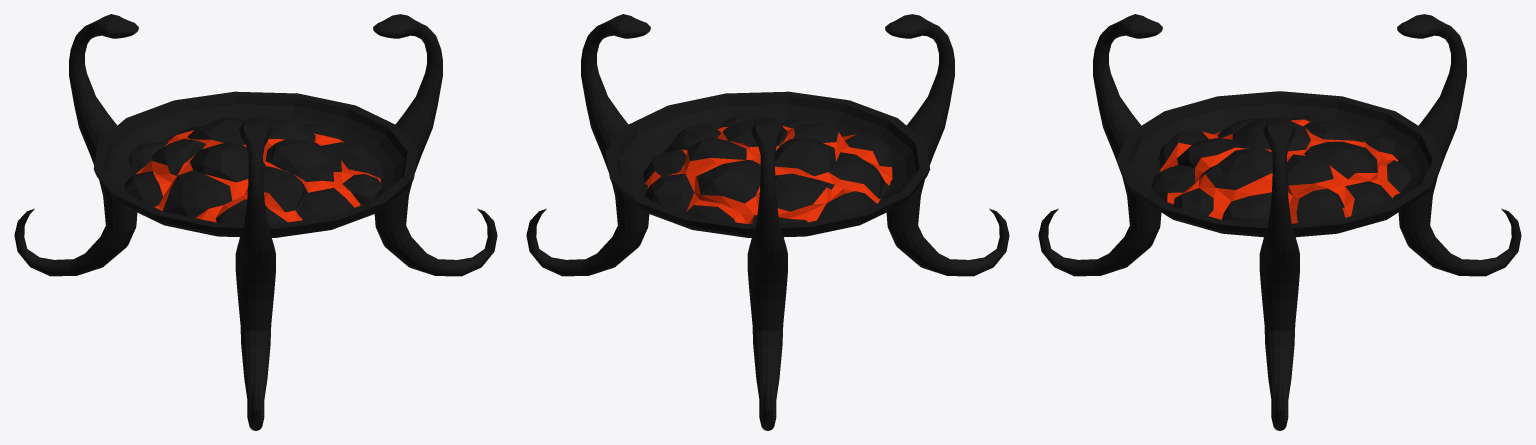
The model's file is snake-brazier-01.fbx.
The picture shows the model from 3 angles, left to right: view 1: azimuth 30°, elevation 25°; view 2: azimuth 150°, elevation 25°; view 3: azimuth 270°, elevation 25°; orthographic projection.
Parts seen in each view (by area): view 1: Coals, Brazier, Snake.002, Snake, Snake.001; view 2: Coals, Brazier, Snake.001, Snake.002, Snake; view 3: Coals, Brazier, Snake, Snake.001, Snake.002.
Boxes of the visible parts, <box> form: Coals: <box>124,115,383,224</box>; Brazier: <box>93,91,418,237</box>; Snake.002: <box>235,116,275,430</box>; Snake: <box>373,14,497,276</box>; Snake.001: <box>14,14,138,276</box>; Coals: <box>643,115,893,224</box>; Brazier: <box>605,91,930,237</box>; Snake.001: <box>747,116,787,430</box>; Snake.002: <box>885,14,1009,276</box>; Snake: <box>526,14,650,276</box>; Coals: <box>1151,115,1411,223</box>; Brazier: <box>1116,91,1443,237</box>; Snake: <box>1259,116,1299,430</box>; Snake.001: <box>1397,14,1521,276</box>; Snake.002: <box>1038,14,1162,276</box>.
Bounding box in the file's own units: 165 × 112 × 180.
